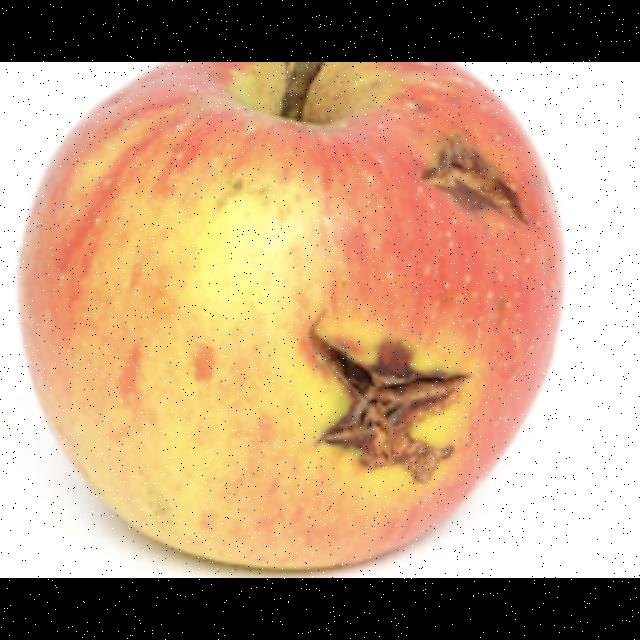Apel Segar: (18, 62, 258, 566)
Apel Tidak Segar: (195, 62, 564, 550)
